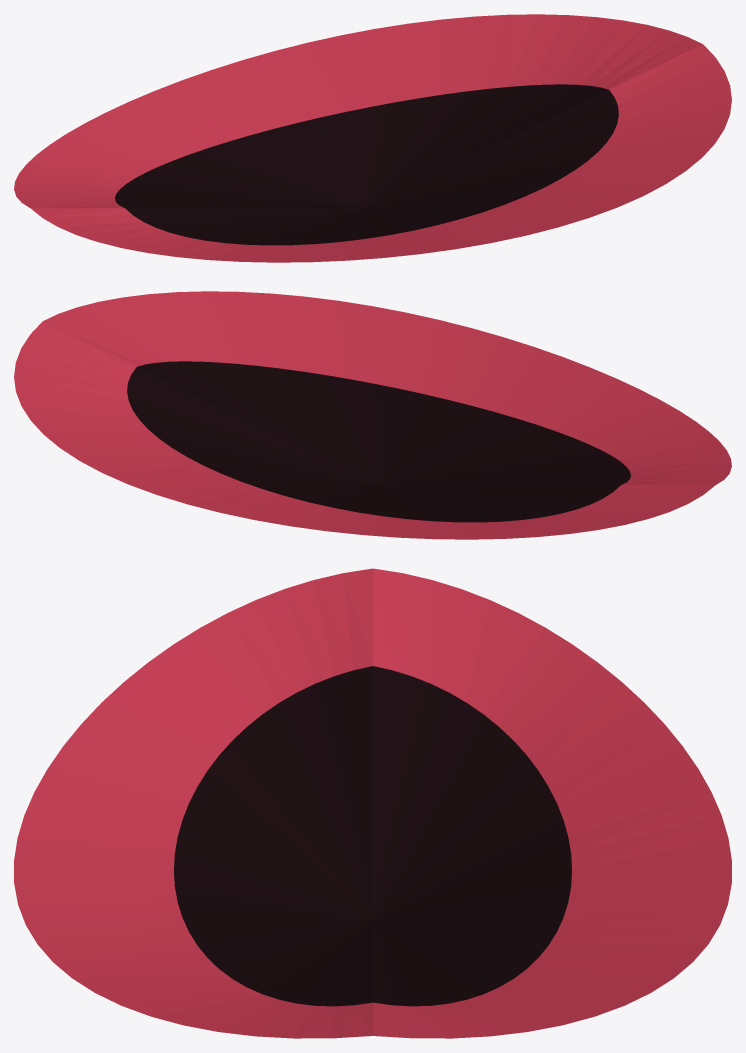
The model's file is viseme-oh.obj.
3 views of the same model, one above another, from view 1: azimuth 30°, elevation 25°; view 2: azimuth 150°, elevation 25°; view 3: azimuth 270°, elevation 25° (orthographic). The views are drawn at different scales.
Visible parts, largest first — view 1: viseme_oh; view 2: viseme_oh; view 3: viseme_oh.
Part boxes in pixels (bbox=[...]): viseme_oh: bbox=[14, 14, 731, 262]; viseme_oh: bbox=[14, 291, 731, 539]; viseme_oh: bbox=[14, 568, 731, 1038].
Bounding box in the file's own units: 0.5 × 0.058 × 0.3245.
